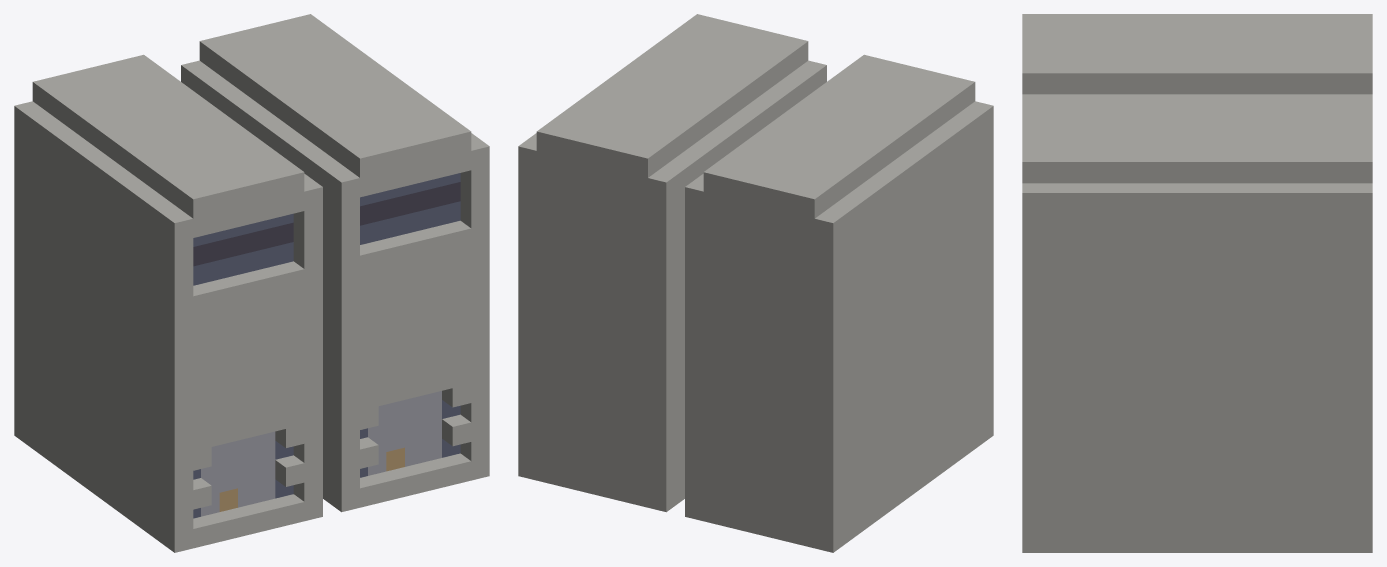
The model's file is PcDoubleCase.fbx.
3 renders of one model, left to right at view 1: azimuth 30°, elevation 25°; view 2: azimuth 150°, elevation 25°; view 3: azimuth 270°, elevation 25°, orthographic. The views are drawn at different scales.
Parts seen in each view (by area): view 1: DoublePcCase; view 2: DoublePcCase; view 3: DoublePcCase.
Part boxes in pixels (box(x1,y1,x2,y2)): DoublePcCase: box(14, 14, 489, 552); DoublePcCase: box(518, 14, 993, 552); DoublePcCase: box(1022, 14, 1372, 552).
Bounding box in the file's own units: 106 × 112 × 93.75.
